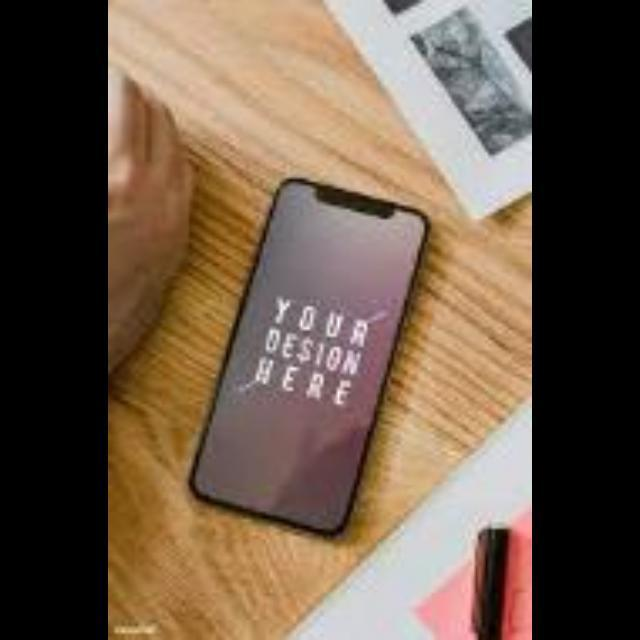PhoneUse: (198, 167, 428, 547)
